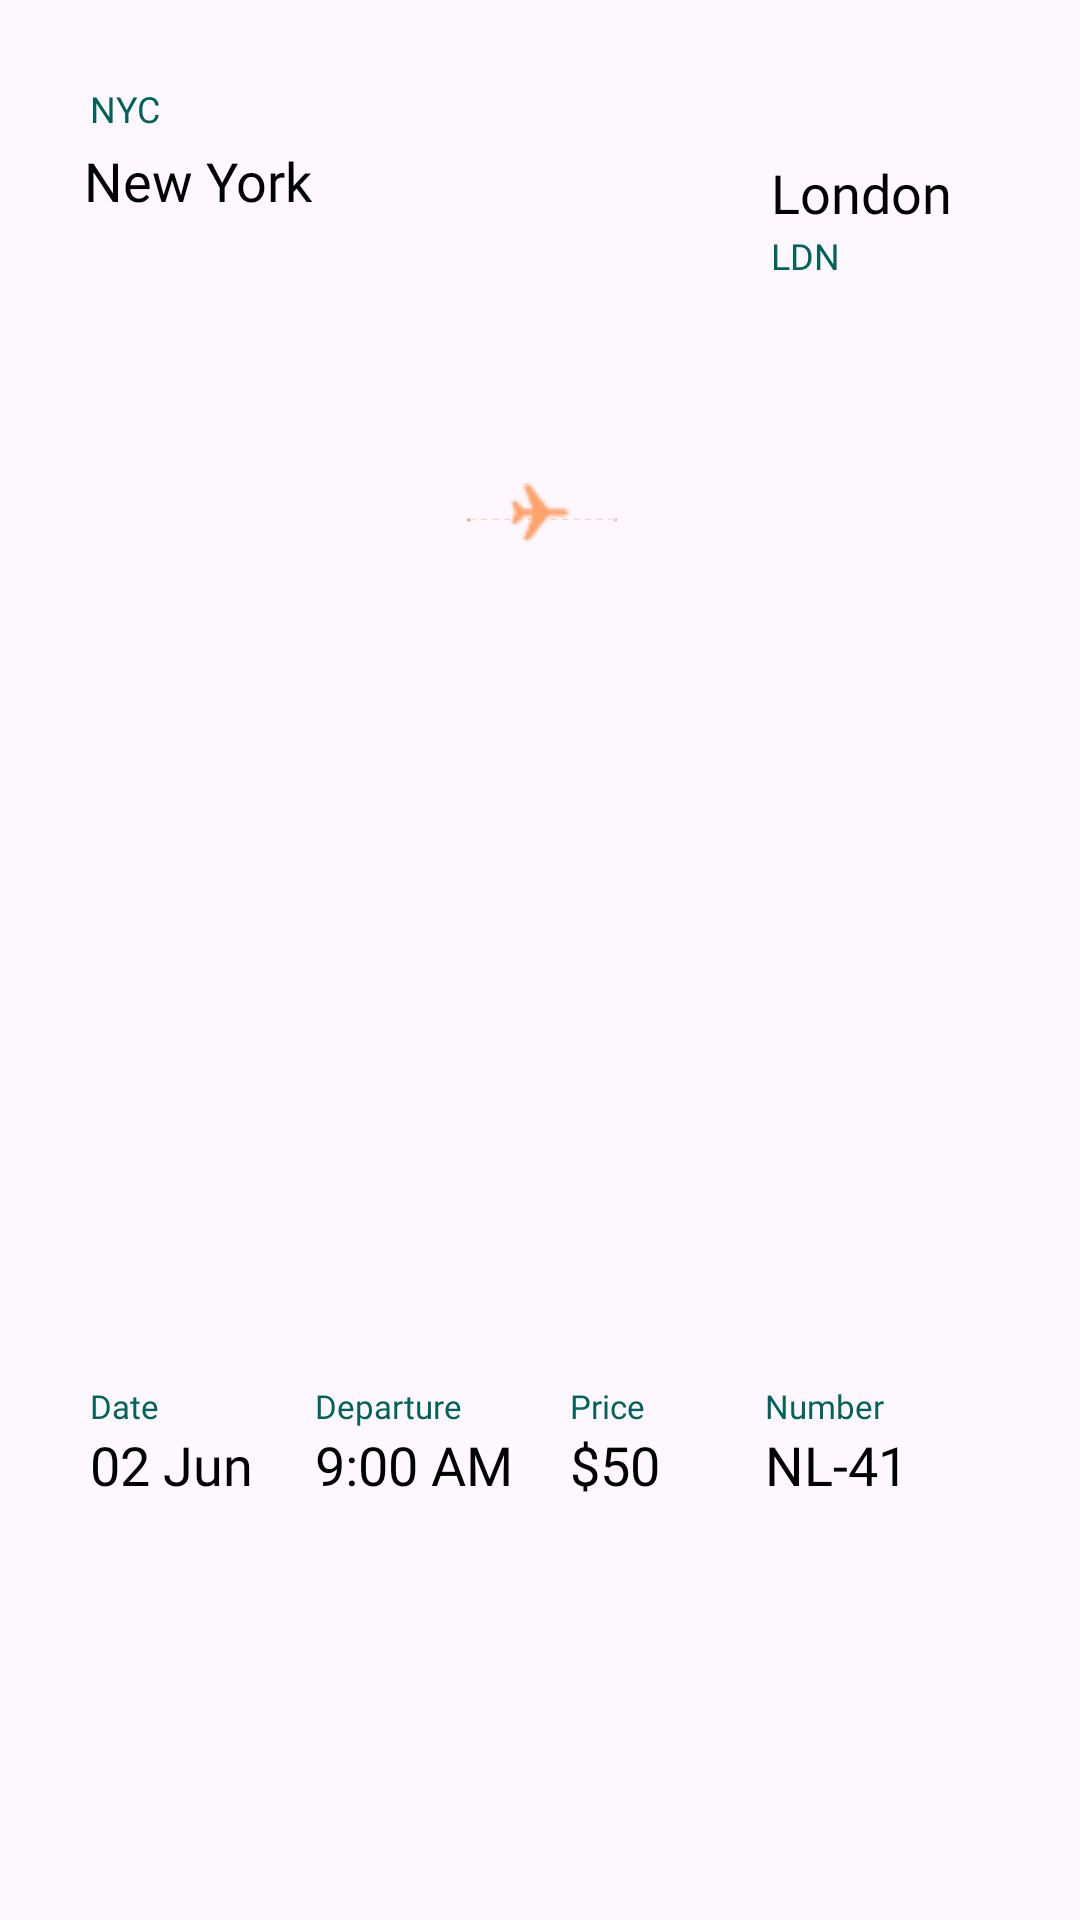

Icons on this 1080w x 1920h Android screen, each with the point to tap as [x,y]:
planeticket: [540,512]
